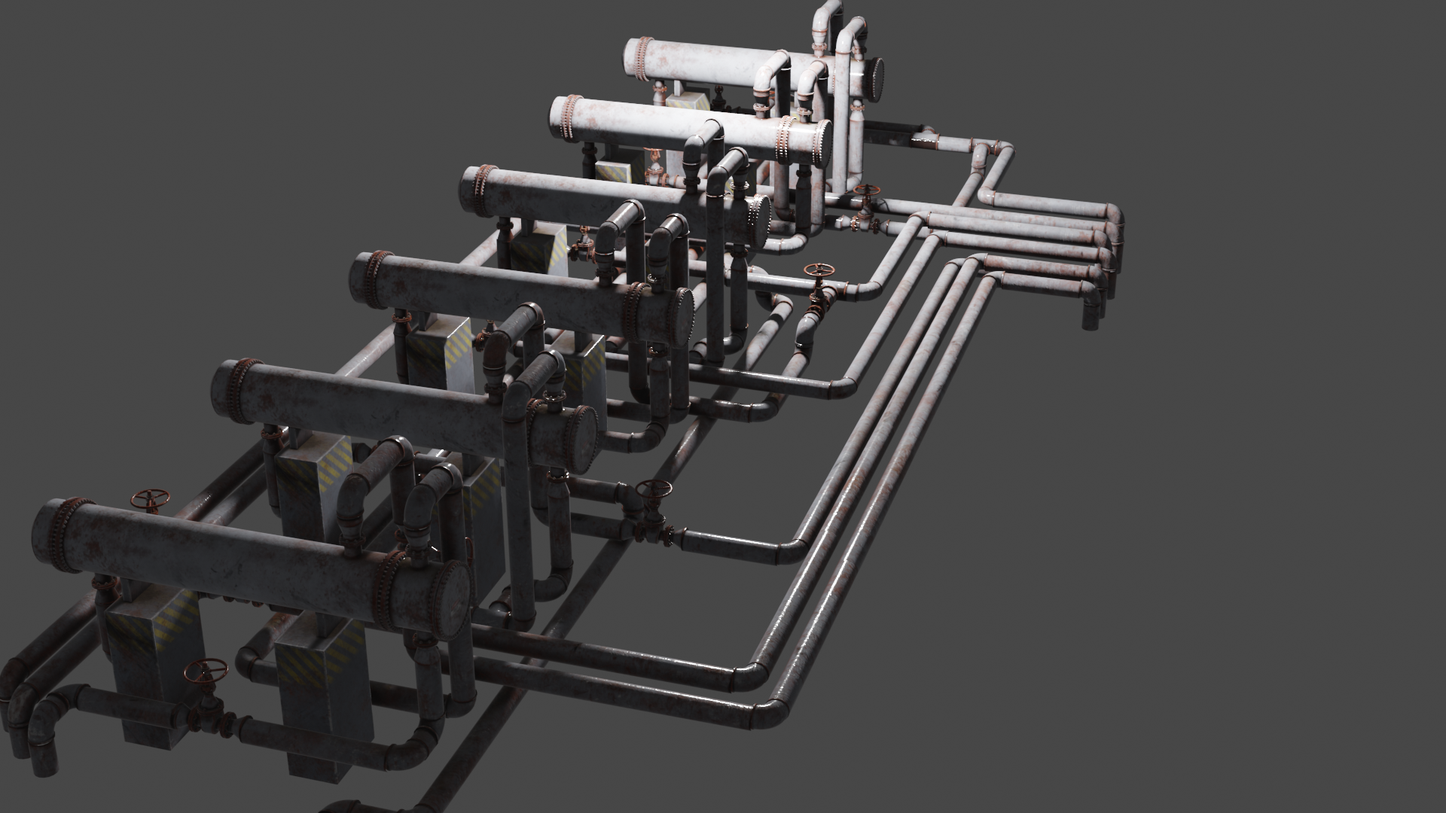HE_1: (27, 499, 476, 641)
HE_2: (204, 358, 605, 474)
HE_3: (342, 251, 698, 345)
HE_4: (454, 164, 768, 249)
HE_5: (542, 91, 831, 162)
HE_6: (620, 31, 892, 100)
